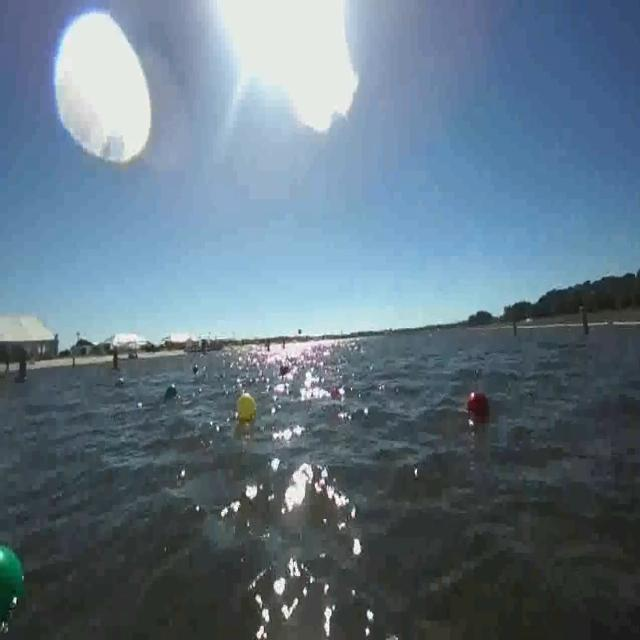green-buoy: (0, 540, 31, 638)
red-buoy: (468, 384, 498, 445)
yellow-buoy: (234, 391, 258, 425)
